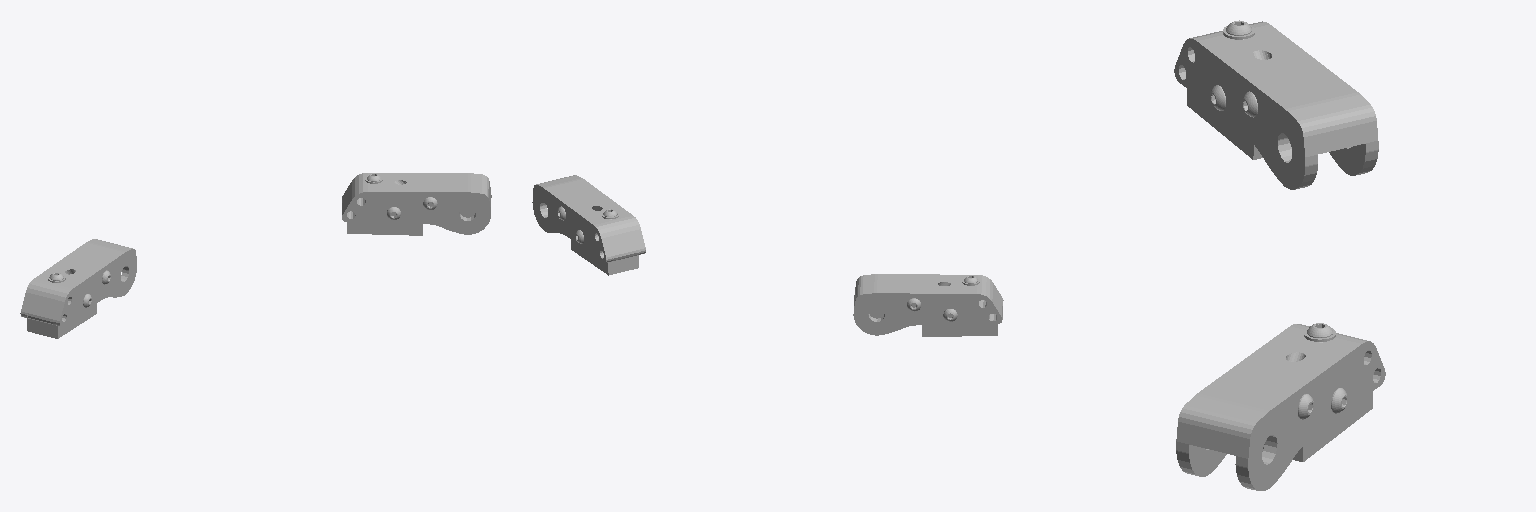
URDF robot description (qarm_gripper):
<?xml version="1.0" encoding="utf-8"?>
<robot  name="qarm_gripper">
  <link
    name="base_link">
    <inertial>
      <origin
        xyz="0.00012116 0.029671 -0.014086"
        rpy="0 0 0" />
      <mass
        value="0.32859" />
      <inertia
        ixx="5.7665E-05"
        ixy="8.7777E-08"
        ixz="-2.8882E-08"
        iyy="6.2673E-05"
        iyz="9.1554E-07"
        izz="9.0909E-05" />
    </inertial>
    <visual>
      <origin
        xyz="0 0 0"
        rpy="0 0 0" />
      <geometry>
        <mesh
          filename="package://qarm_gripper/meshes/base_link.STL" />
      </geometry>
      <material
        name="">
        <color
          rgba="0.86667 0.86667 0.8902 1" />
      </material>
    </visual>
    <collision>
      <origin
        xyz="0 0 0"
        rpy="0 0 0" />
      <geometry>
        <mesh
          filename="package://qarm_gripper/meshes/base_link.STL" />
      </geometry>
    </collision>
  </link>
  <link
    name="Link1A">
    <inertial>
      <origin
        xyz="-0.00045578 0.040818 -0.016985"
        rpy="0 0 0" />
      <mass
        value="0.075987" />
      <inertia
        ixx="2.0947E-05"
        ixy="-7.5077E-07"
        ixz="-1.7143E-11"
        iyy="3.271E-06"
        iyz="6.1893E-10"
        izz="2.1417E-05" />
    </inertial>
    <visual>
      <origin
        xyz="0 0 0"
        rpy="0 0 0" />
      <geometry>
        <mesh
          filename="package://qarm_gripper/meshes/Link1A.STL" />
      </geometry>
      <material
        name="">
        <color
          rgba="0.75294 0.75294 0.75294 1" />
      </material>
    </visual>
    <collision>
      <origin
        xyz="0 0 0"
        rpy="0 0 0" />
      <geometry>
        <mesh
          filename="package://qarm_gripper/meshes/Link1A.STL" />
      </geometry>
    </collision>
  </link>
  <joint
    name="Joint1A"
    type="revolute">
    <origin
      xyz="-0.03075 0.0345 0.016987"
      rpy="0 0 0.59622" />
    <parent
      link="base_link" />
    <child
      link="Link1A" />
    <axis
      xyz="0 0 1" />
    <limit
      lower="0"
      upper="0"
      effort="0"
      velocity="0" />
  </joint>
  <link
    name="Link2A">
    <inertial>
      <origin
        xyz="-0.00490949469440891 0.0156109780240097 -0.0201804633588216"
        rpy="0 0 0" />
      <mass
        value="0.0291073155718739" />
      <inertia
        ixx="5.71066984240005E-06"
        ixy="-3.98906405487063E-07"
        ixz="-1.34892678516972E-13"
        iyy="1.04097610793045E-06"
        iyz="-2.15540332491295E-14"
        izz="6.34957489076701E-06" />
    </inertial>
    <visual>
      <origin
        xyz="0 0 0"
        rpy="0 0 0" />
      <geometry>
        <mesh
          filename="package://qarm_gripper/meshes/Link2A.STL" />
      </geometry>
      <material
        name="">
        <color
          rgba="0.752941176470588 0.752941176470588 0.752941176470588 1" />
      </material>
    </visual>
    <collision>
      <origin
        xyz="0 0 0"
        rpy="0 0 0" />
      <geometry>
        <mesh
          filename="package://qarm_gripper/meshes/Link2A.STL" />
      </geometry>
    </collision>
  </link>
  <joint
    name="Joint2A"
    type="revolute">
    <origin
      xyz="0 0.07 0"
      rpy="0 0 -0.094813" />
    <parent
      link="Link1A" />
    <child
      link="Link2A" />
    <axis
      xyz="0 0 1" />
    <limit
      lower="0"
      upper="0"
      effort="0"
      velocity="0" />
  </joint>
  <link
    name="Link1B">
    <inertial>
      <origin
        xyz="0 0 0"
        rpy="0 0 0" />
      <mass
        value="0" />
      <inertia
        ixx="0"
        ixy="0"
        ixz="0"
        iyy="0"
        iyz="0"
        izz="0" />
    </inertial>
    <visual>
      <origin
        xyz="0 0 0"
        rpy="0 0 0" />
      <geometry>
        <mesh
          filename="package://qarm_gripper/meshes/Link1B.STL" />
      </geometry>
      <material
        name="">
        <color
          rgba="1 1 1 1" />
      </material>
    </visual>
    <collision>
      <origin
        xyz="0 0 0"
        rpy="0 0 0" />
      <geometry>
        <mesh
          filename="package://qarm_gripper/meshes/Link1B.STL" />
      </geometry>
    </collision>
  </link>
  <joint
    name="Joint1B"
    type="revolute">
    <origin
      xyz="0.03075 0.0345 0.016987"
      rpy="0 0 -0.58368" />
    <parent
      link="base_link" />
    <child
      link="Link1B" />
    <axis
      xyz="0 0 1" />
    <limit
      lower="0"
      upper="0"
      effort="0"
      velocity="0" />
  </joint>
  <link
    name="Link2B">
    <inertial>
      <origin
        xyz="0.00490949472539796 0.0156109776368603 -0.0137927365250999"
        rpy="0 0 0" />
      <mass
        value="0.0291073142953973" />
      <inertia
        ixx="5.71066976947419E-06"
        ixy="3.98906419860701E-07"
        ixz="-1.33762552422126E-13"
        iyy="1.0409760858344E-06"
        iyz="1.95446349721206E-14"
        izz="6.34957480487405E-06" />
    </inertial>
    <visual>
      <origin
        xyz="0 0 0"
        rpy="0 0 0" />
      <geometry>
        <mesh
          filename="package://qarm_gripper/meshes/Link2B.STL" />
      </geometry>
      <material
        name="">
        <color
          rgba="0.752941176470588 0.752941176470588 0.752941176470588 1" />
      </material>
    </visual>
    <collision>
      <origin
        xyz="0 0 0"
        rpy="0 0 0" />
      <geometry>
        <mesh
          filename="package://qarm_gripper/meshes/Link2B.STL" />
      </geometry>
    </collision>
  </link>
  <joint
    name="Joint2B"
    type="revolute">
    <origin
      xyz="0 0.07 0"
      rpy="0 0 0.055781" />
    <parent
      link="Link1B" />
    <child
      link="Link2B" />
    <axis
      xyz="0 0 -1" />
    <limit
      lower="0"
      upper="0"
      effort="0"
      velocity="0" />
  </joint>
</robot>

--- Render facts (derived) ---
The picture shows the robot from 3 angles, left to right: view 1: azimuth 30°, elevation 25°; view 2: azimuth 150°, elevation 25°; view 3: azimuth 270°, elevation 25°; orthographic projection.
Model qarm_gripper with 5 links and 4 joints (4 revolute), rooted at base_link, posed every joint at zero.
Links seen in each view (by area): view 1: Link2B, Link2A; view 2: Link2A, Link2B; view 3: Link2B, Link2A.
Link boxes in pixels (x1=…): Link2B: x1=342, y1=173, x2=491, y2=235; Link2A: x1=20, y1=239, x2=136, y2=338; Link2A: x1=853, y1=274, x2=1003, y2=336; Link2B: x1=532, y1=175, x2=645, y2=275; Link2B: x1=1176, y1=323, x2=1385, y2=490; Link2A: x1=1174, y1=20, x2=1378, y2=189.
Bounding box of the posed robot: 0.2141 × 0.0456 × 0.0231 m (x, y, z).
Meshes: 5 distinct files referenced, 2 mesh visuals loaded (2 binary STL); not drawn: 3 (reference not matched to a file when rendering).